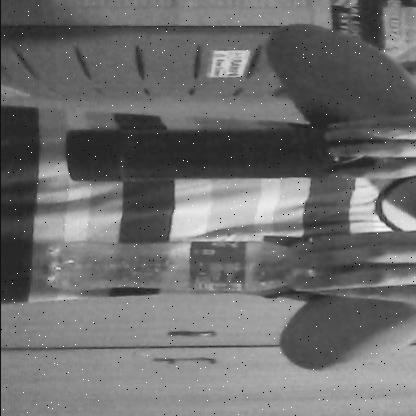Plastic Bottle: (34, 225, 383, 298)
